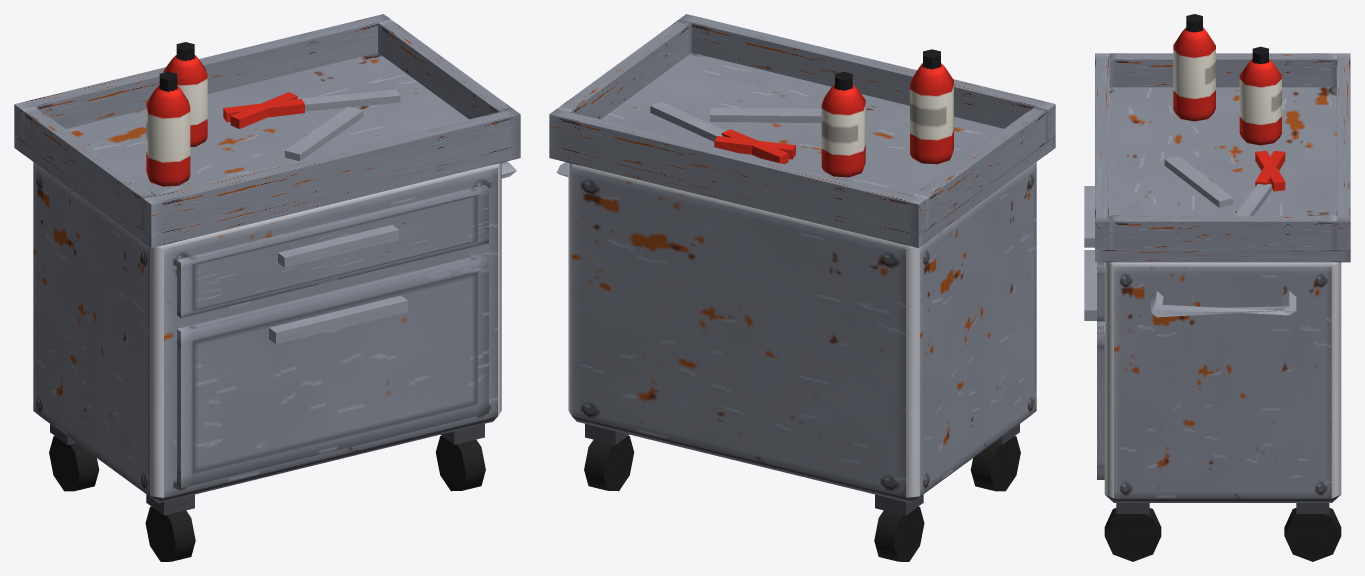
Rendered from Cart_Tools.fbx.
3 renders of one model, left to right at view 1: azimuth 30°, elevation 25°; view 2: azimuth 150°, elevation 25°; view 3: azimuth 270°, elevation 25°, orthographic. The views are drawn at different scales.
Visible parts, largest first — view 1: Cart_Tools_Body, Cart_Tools_Items; view 2: Cart_Tools_Body, Cart_Tools_Items; view 3: Cart_Tools_Body, Cart_Tools_Items.
Boxes of the visible parts, left/top/right/bottom form: Cart_Tools_Body: left=14, top=14, right=520, bottom=561; Cart_Tools_Items: left=146, top=42, right=400, bottom=186; Cart_Tools_Body: left=549, top=14, right=1055, bottom=561; Cart_Tools_Items: left=650, top=49, right=953, bottom=177; Cart_Tools_Body: left=1084, top=53, right=1350, bottom=561; Cart_Tools_Items: left=1164, top=14, right=1285, bottom=215.
Bounding box in the file's own units: 0.9006 × 0.9822 × 0.563.
Materials: 1 (1 with a texture image).
